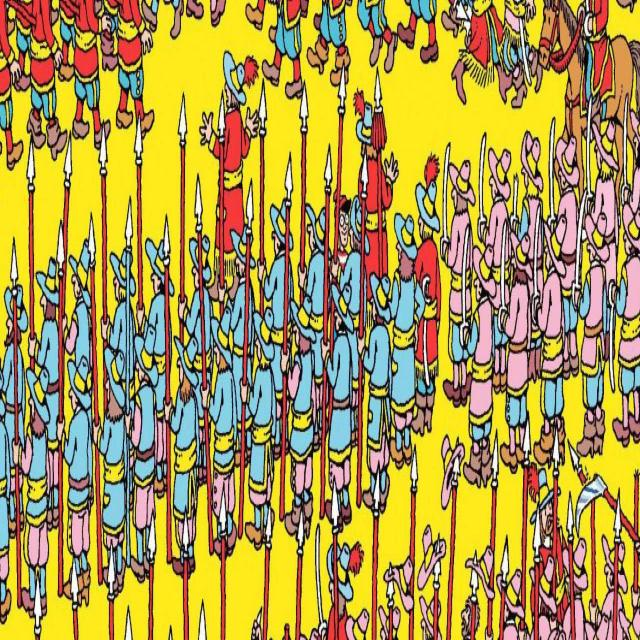waldo: (333, 189, 351, 248)
